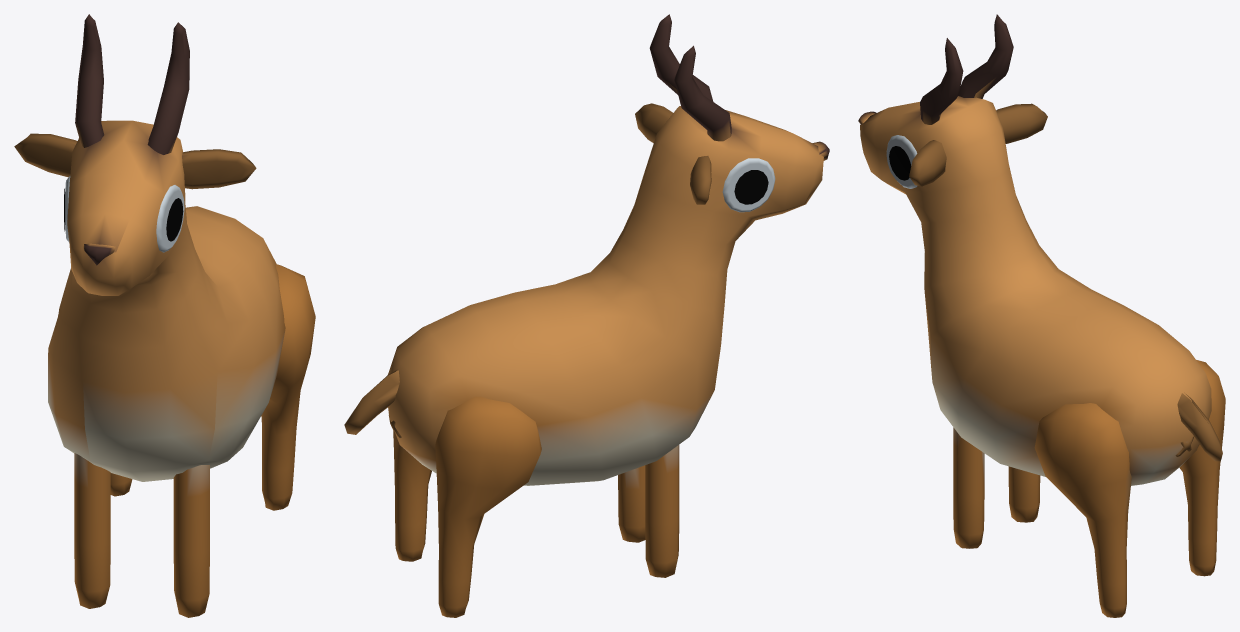
The model's file is Antelope.glb.
The picture shows the model from 3 angles, left to right: view 1: azimuth 30°, elevation 25°; view 2: azimuth 150°, elevation 25°; view 3: azimuth 270°, elevation 25°; orthographic projection. The views are drawn at different scales.
Visible parts, largest first — view 1: 2; view 2: 2; view 3: 2.
Boxes of the visible parts, x1,y1,x2,y2 form: 2: (14,14,315,617); 2: (344,14,829,617); 2: (858,14,1225,617).
Size of the model in its own units: 0.7844 by 1.25 by 0.8343.
